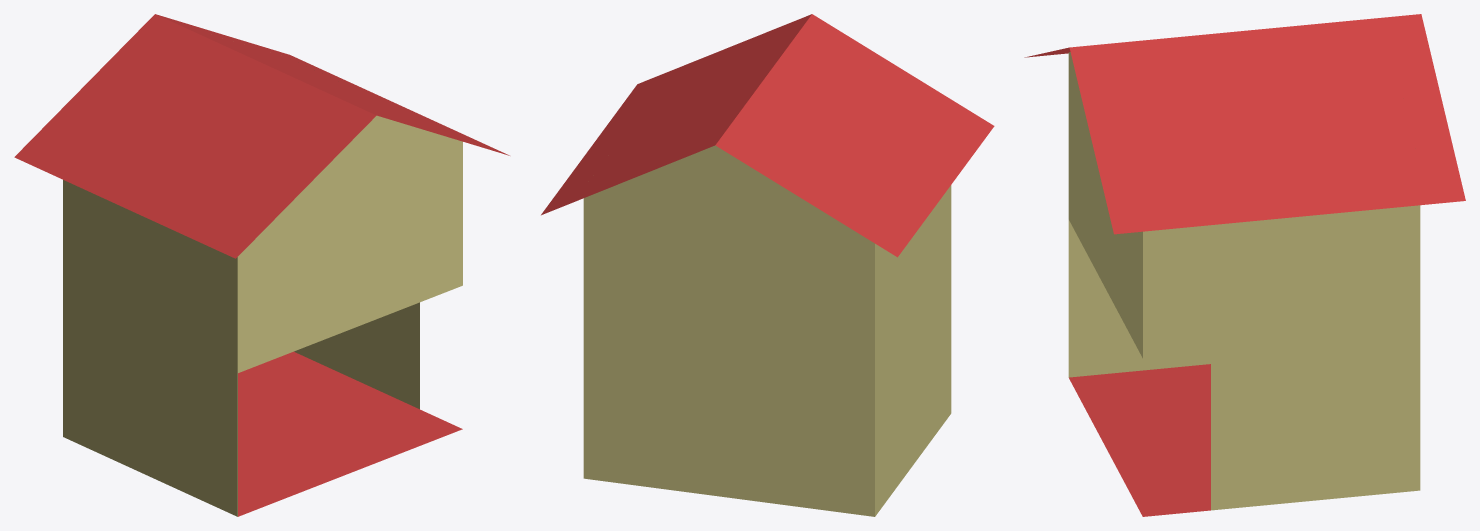
The picture shows the model from 3 angles, left to right: view 1: azimuth 30°, elevation 25°; view 2: azimuth 150°, elevation 25°; view 3: azimuth 270°, elevation 25°; orthographic projection. The views are drawn at different scales.
Bounding box in the file's own units: 12.68 × 11.61 × 11.72.
